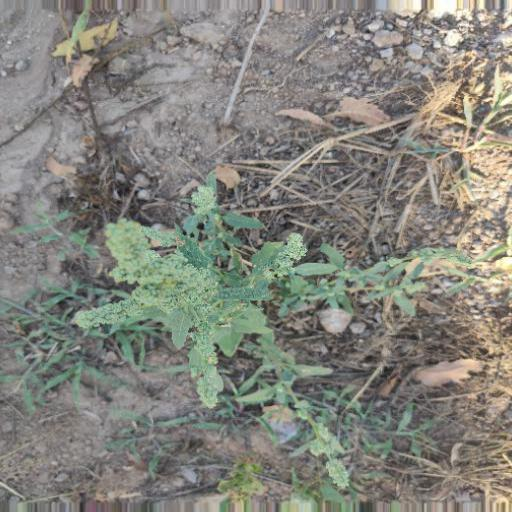weed: (106, 211, 313, 412)
